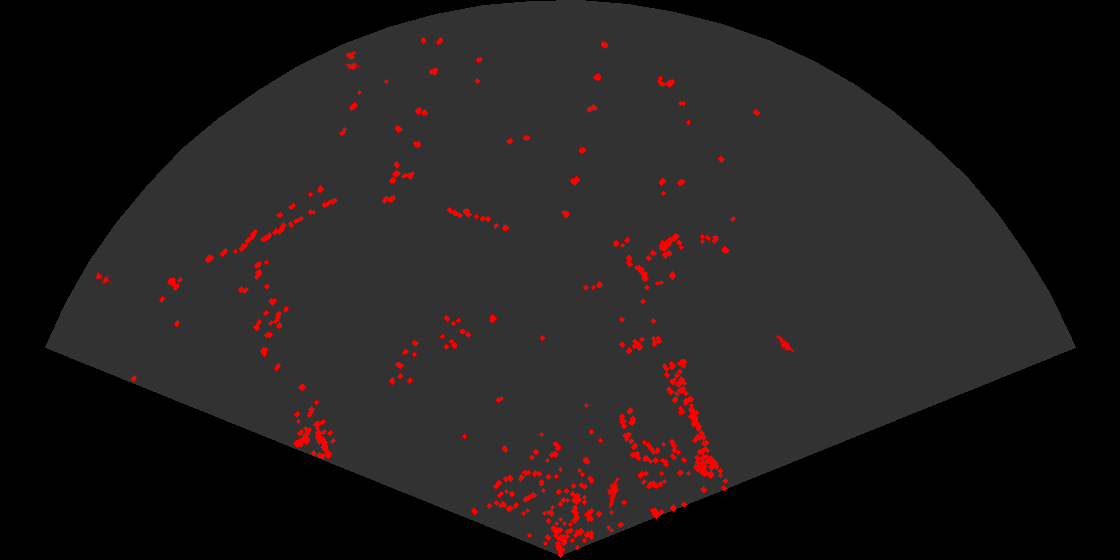cage: (343, 50, 362, 74), (94, 271, 111, 286)
frogman: (605, 478, 622, 509), (770, 332, 794, 353)
